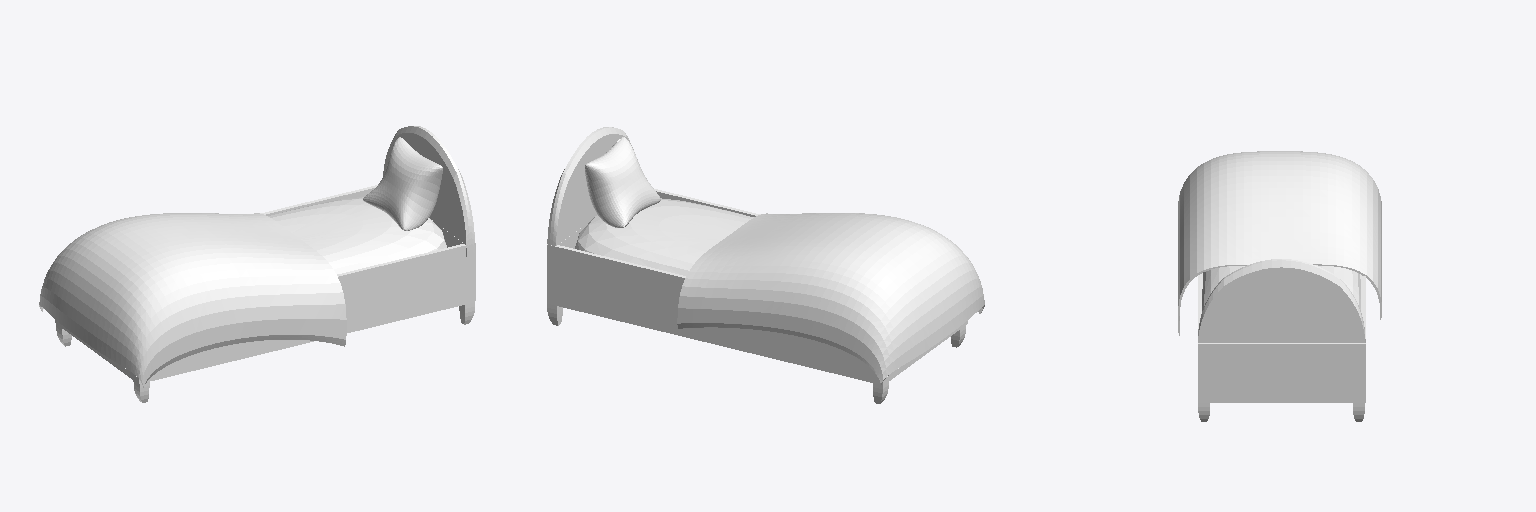
Rendered from KROVAT.obj.
3 renders of one model, left to right at view 1: azimuth 30°, elevation 25°; view 2: azimuth 150°, elevation 25°; view 3: azimuth 270°, elevation 25°, orthographic.
Visible parts, largest first — view 1: Box001; view 2: Box001; view 3: Box001.
Boxes of the visible parts, <box> form: Box001: <box>39,126,475,402</box>; Box001: <box>547,127,984,403</box>; Box001: <box>1178,151,1381,421</box>.
Bounding box in the file's own units: 424 × 184 × 211.